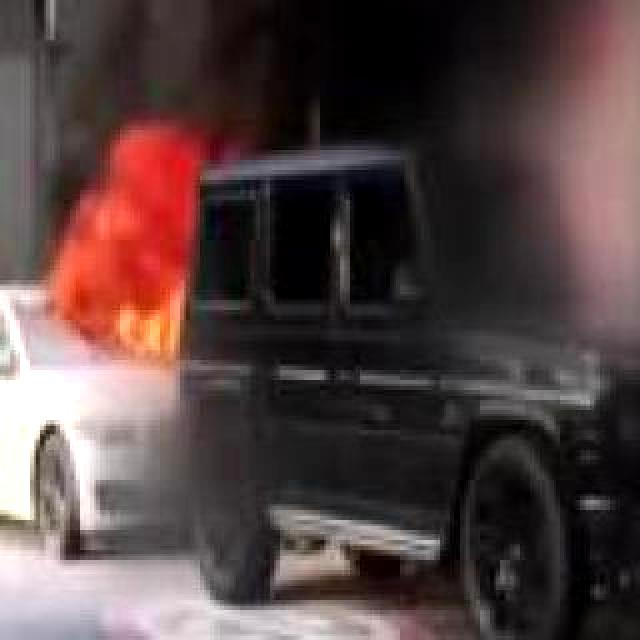fire: (82, 124, 190, 350)
